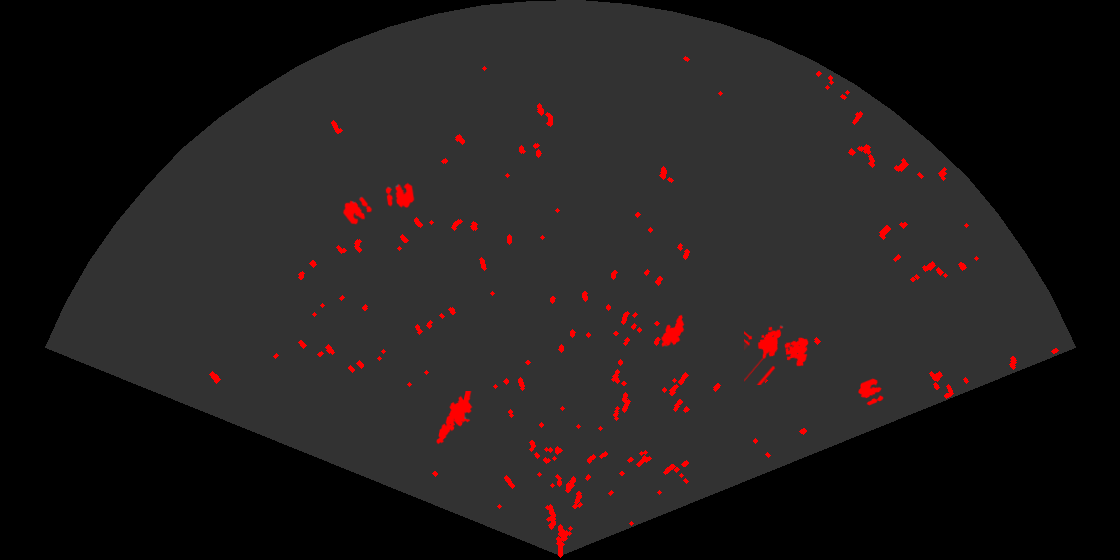AUV: (659, 313, 686, 349)
ball: (341, 195, 374, 226), (384, 181, 416, 209), (857, 377, 885, 407)
cage: (744, 324, 810, 385)
frogman: (435, 391, 474, 446)
